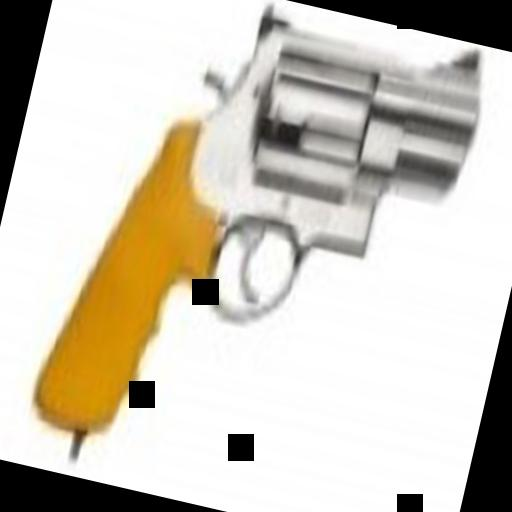Handgun: (25, 0, 493, 495)
